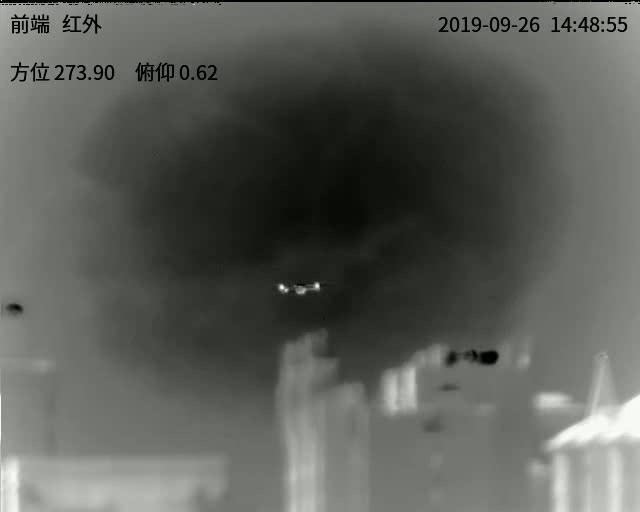DRONE: (276, 280, 322, 295)
